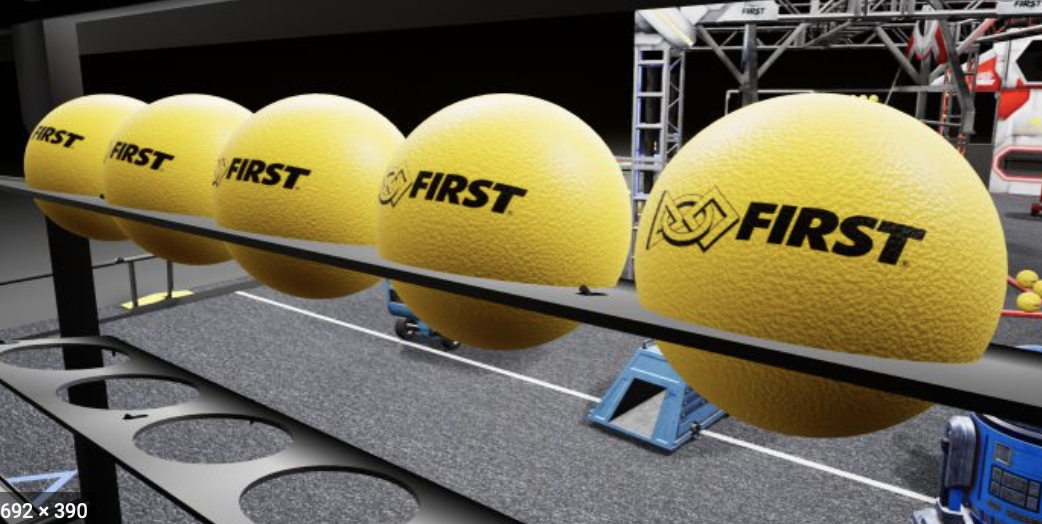powercell: (639, 70, 1021, 437), (375, 98, 626, 347), (201, 85, 373, 303), (96, 73, 198, 252)
